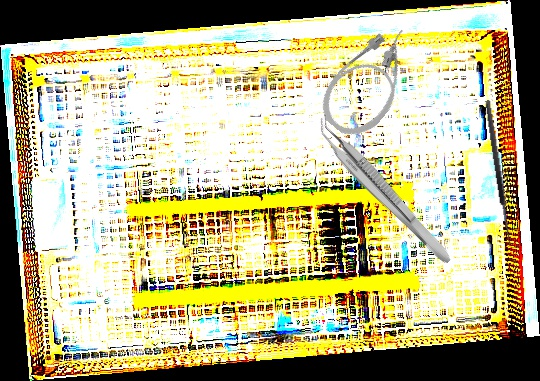Cannula: (309, 16, 435, 147)
Hook Surgical: (483, 98, 521, 250)
Tissue Forceps: (308, 114, 461, 267)
